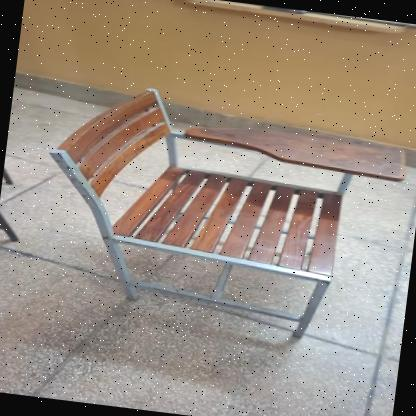chair: (21, 69, 414, 346)
